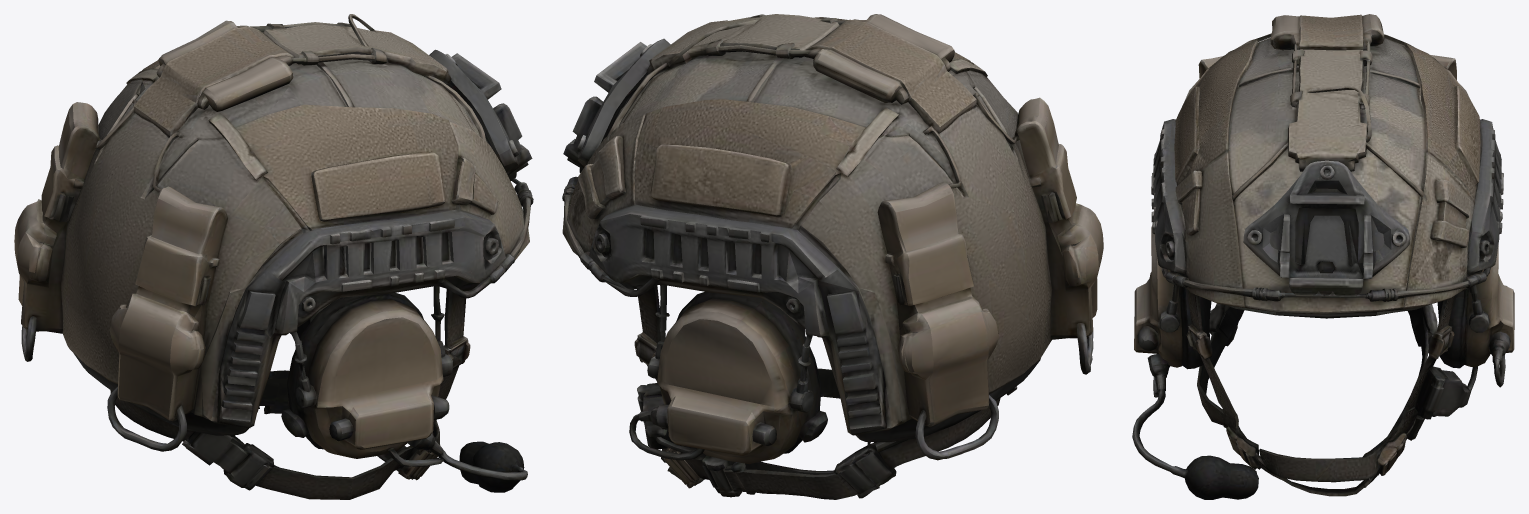
Rendered from helmet_hs.glb.
The picture shows the model from 3 angles, left to right: view 1: azimuth 30°, elevation 25°; view 2: azimuth 150°, elevation 25°; view 3: azimuth 270°, elevation 25°; orthographic projection. The views are drawn at different scales.
Parts seen in each view (by area): view 1: Object_4; view 2: Object_4; view 3: Object_4.
Part boxes in pixels (x1,y1,x2,y2): Object_4: (14, 14, 533, 499); Object_4: (562, 14, 1103, 499); Object_4: (1132, 14, 1514, 499).
Bounding box in the file's own units: 0.998 × 0.9945 × 0.8494.
1 material, 1 textured.
